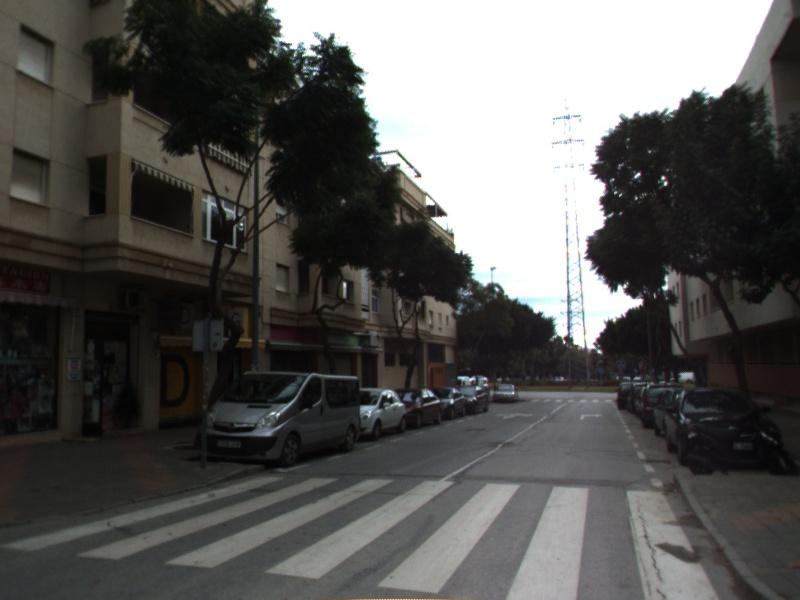RIGHT: (578, 411, 604, 422)
